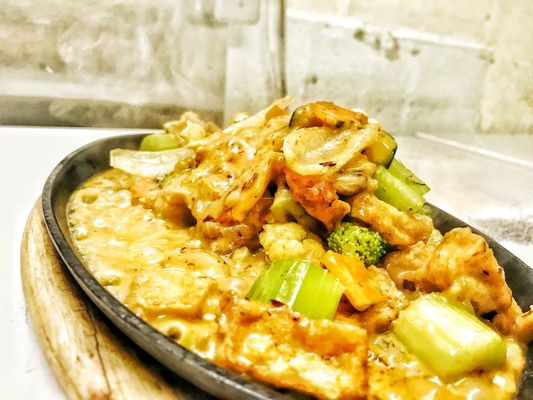curry: (327, 222, 388, 266)
sushi: (68, 89, 532, 400)
